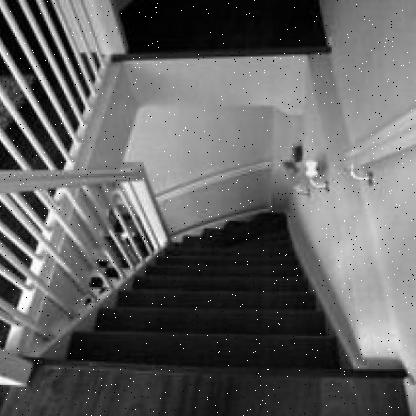stair_down: (43, 253, 344, 403)
